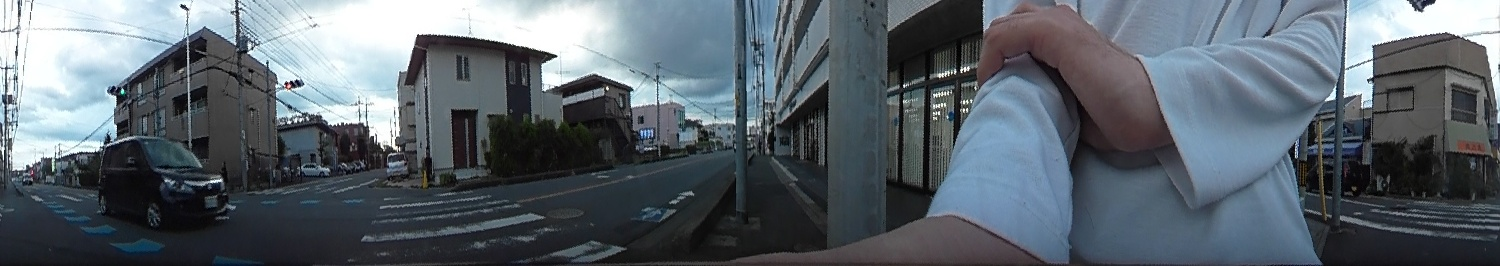difficult_person: (220, 159, 231, 186)
